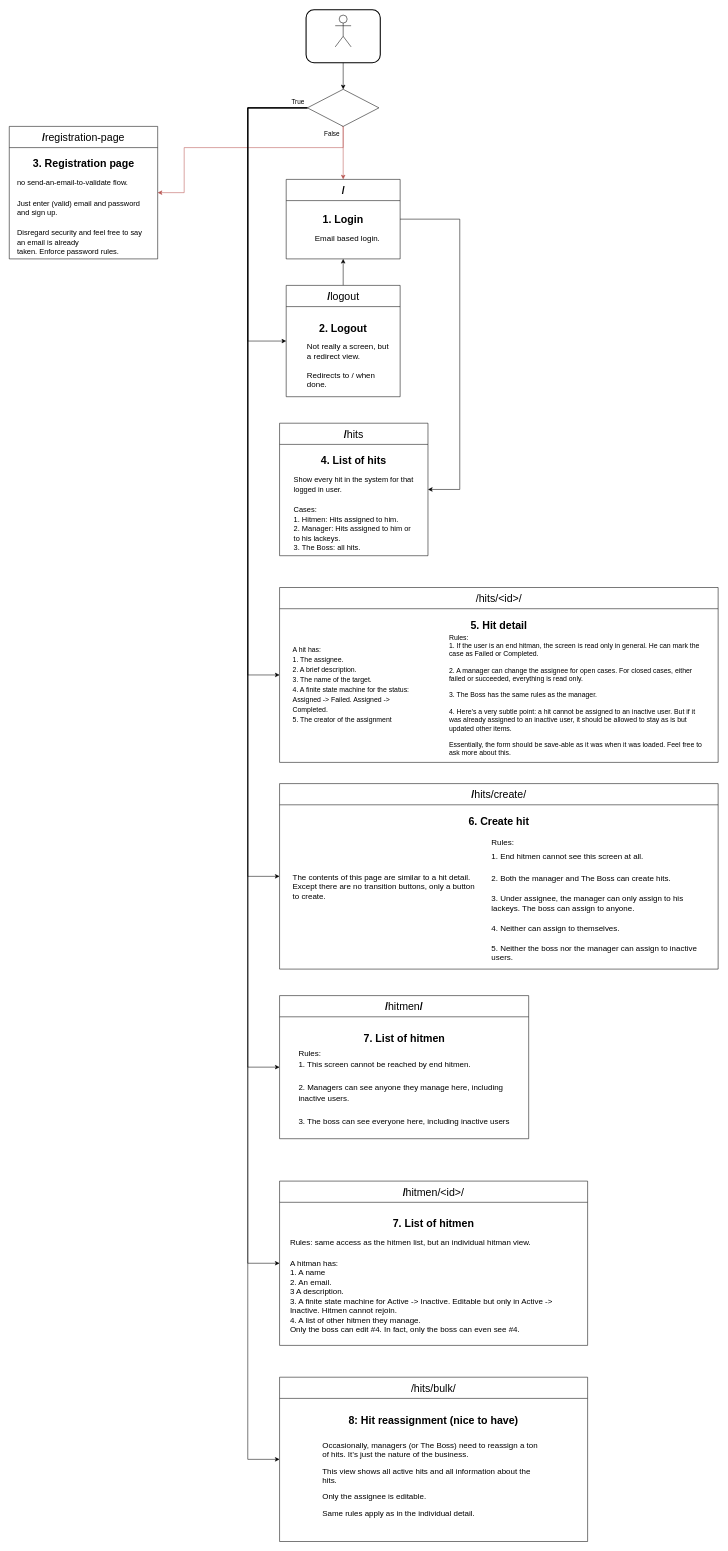
Some shapes in this 728 by 1551 pixel diagram are drawn without their labels. The shapes that lost their labels are listed below. From the top down, each one's centre as x and y in pixels, then its label:
At (343,31): "Giuseppi/boss/hitman".
At (343,107): "is authenticated?".
